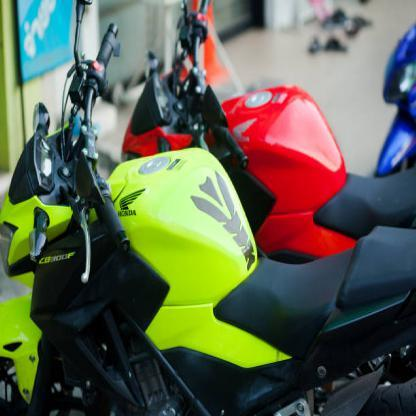Motorcycle: (0, 0, 415, 416), (130, 0, 415, 235)
